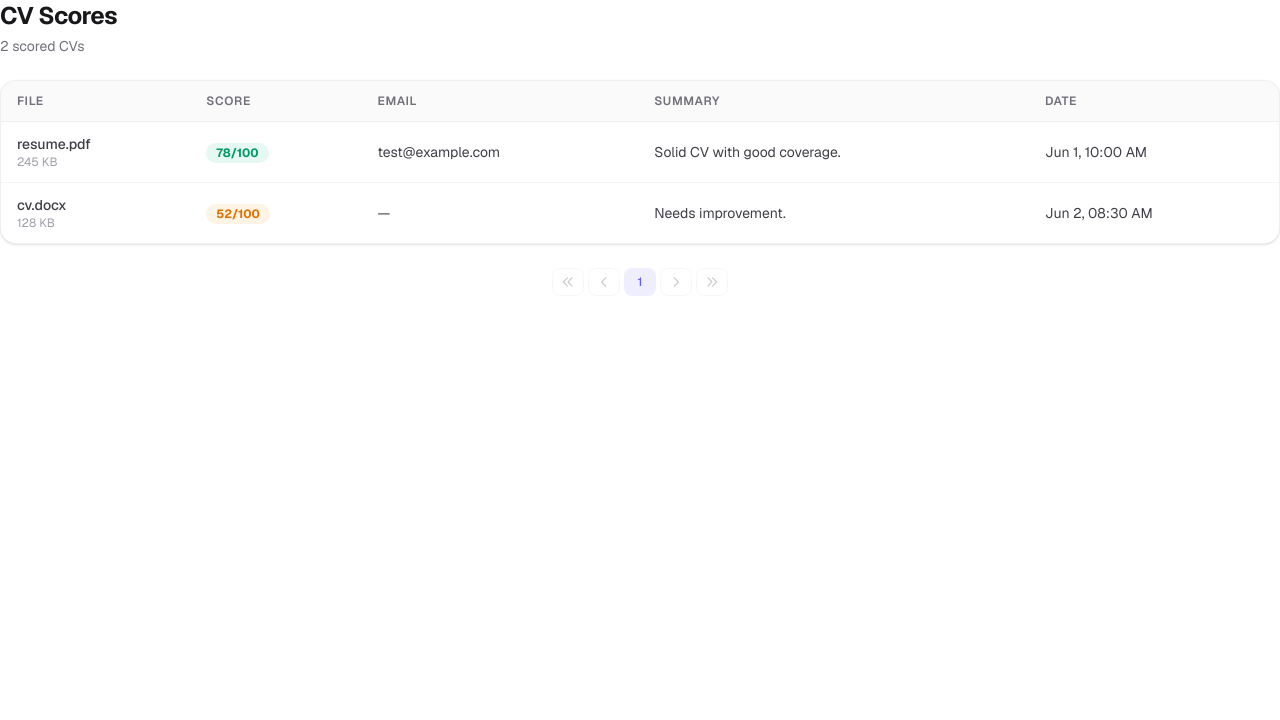
CVScoresPage › closes modal when backdrop is clicked
The width and height of the screenshot is (1280, 720).
Click the text "78/100" at coordinates (238, 152), box 206,142 -> 269,162
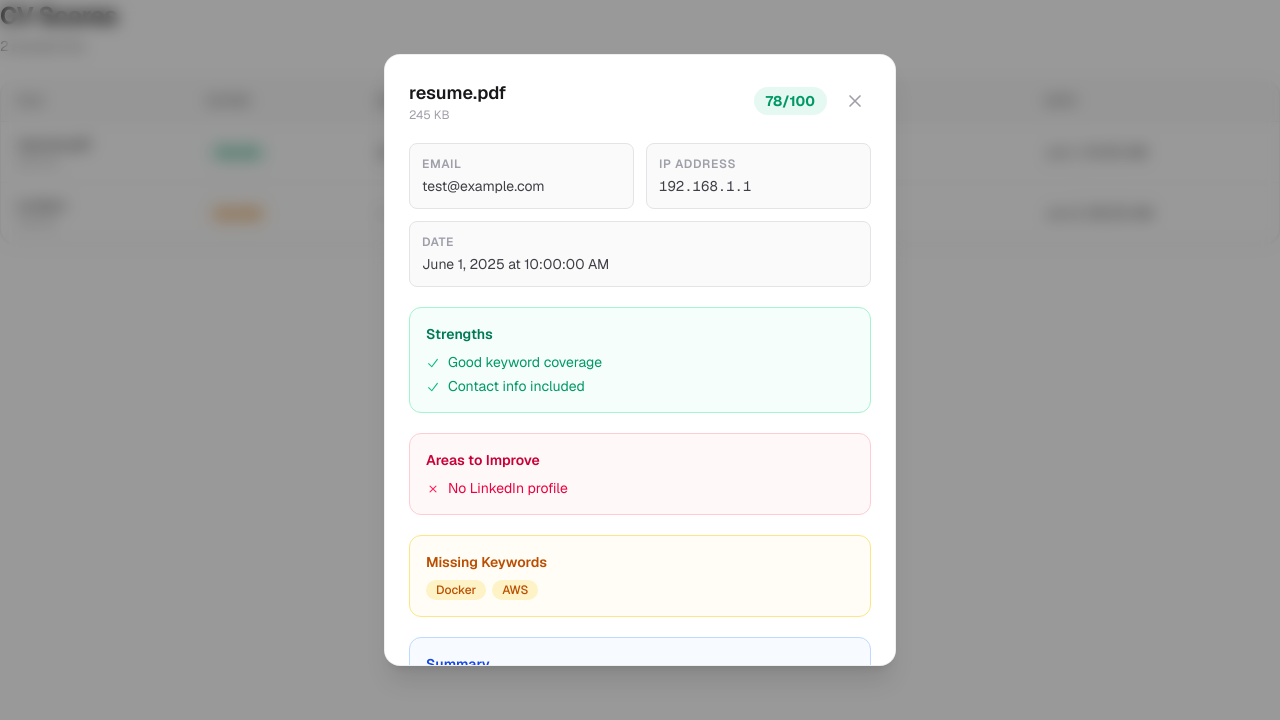
Expected: the text "Strengths" is shown, 426,325 -> 493,343
Click the element with test id "modal-backdrop" at coordinates (77, 360), box 0,0 -> 1279,719
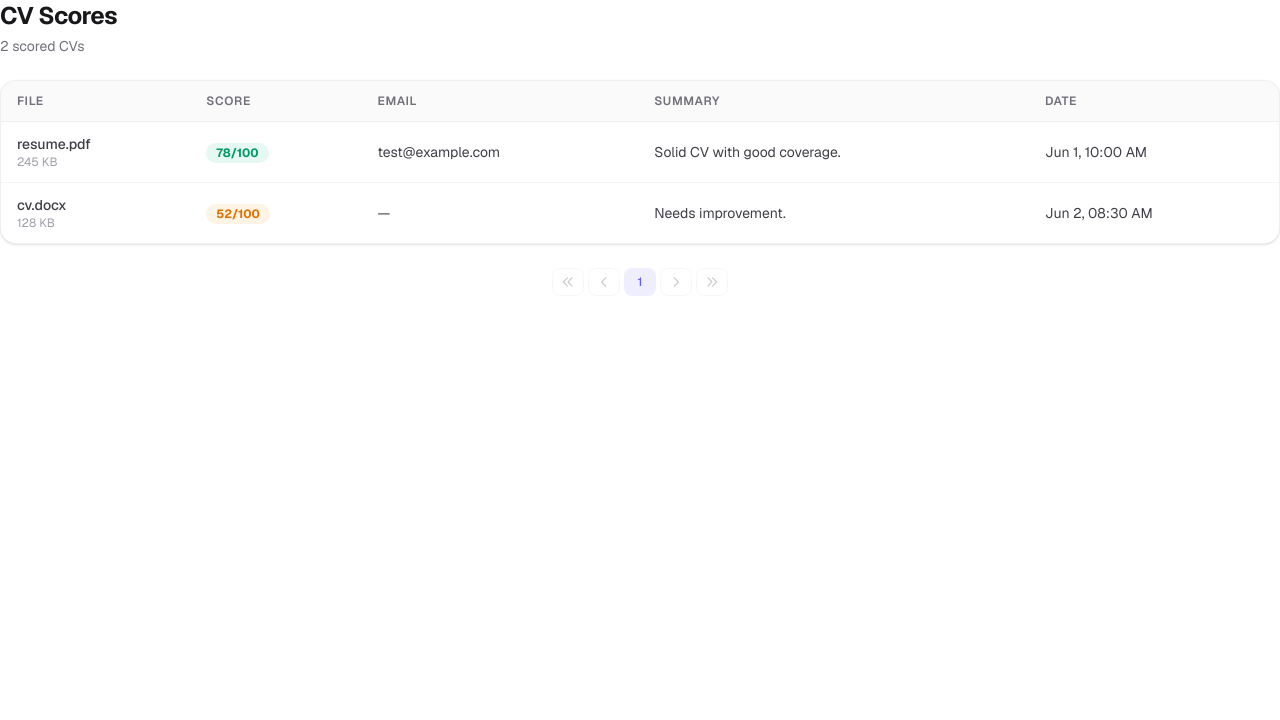
Expected: the text "Strengths" is gone
